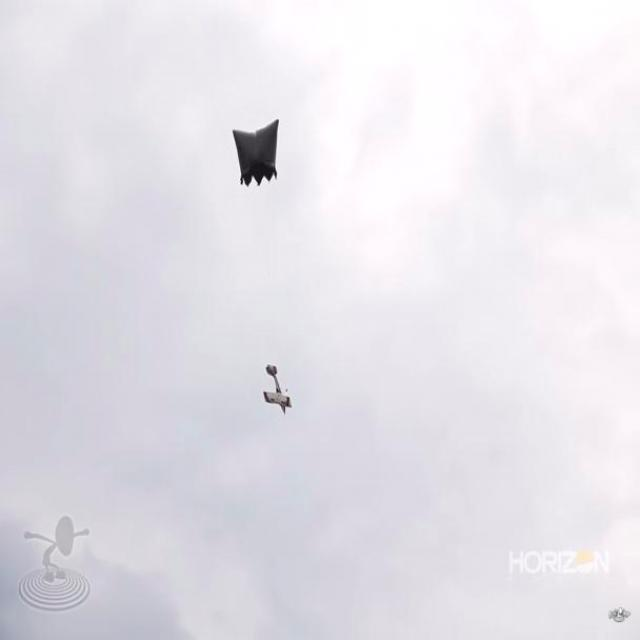iha: (253, 359, 298, 419)
